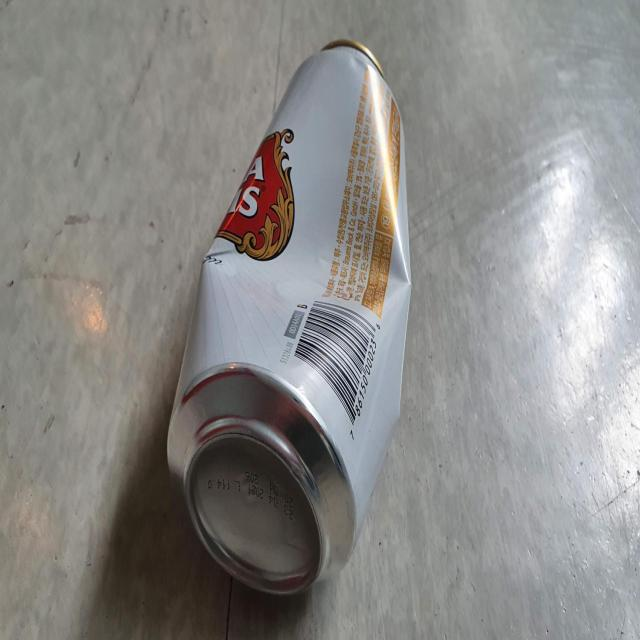can: (167, 40, 411, 594)
